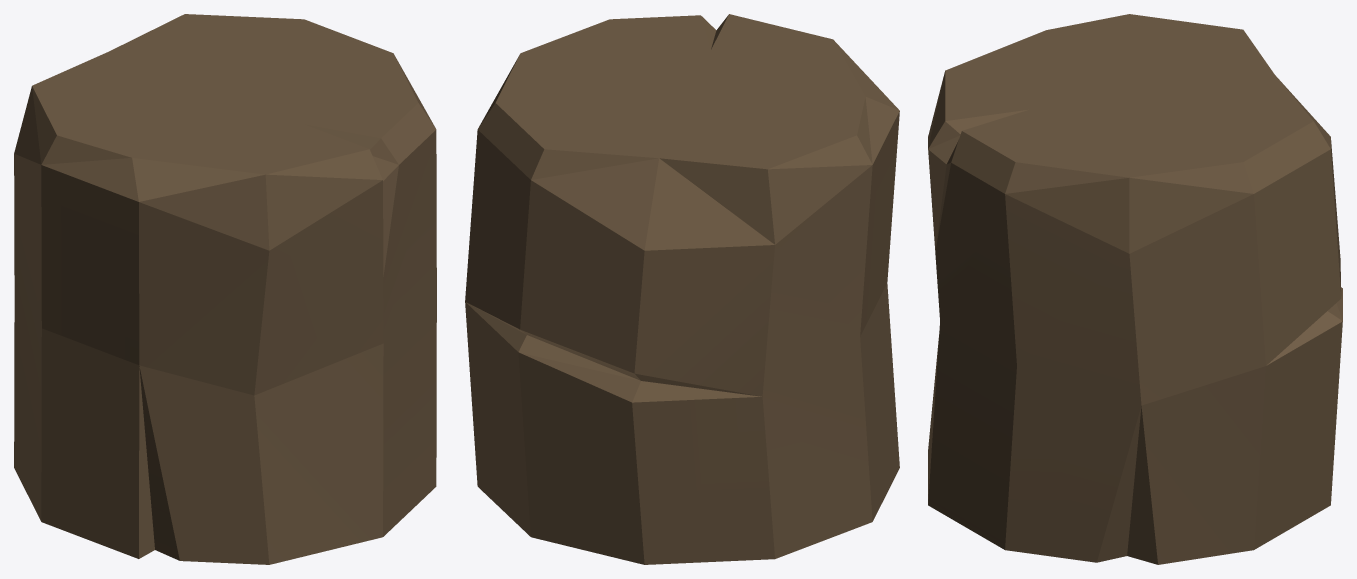
Rendered from Tronco_pequeño.glb.
3 views of the same model, side by side, from view 1: azimuth 30°, elevation 25°; view 2: azimuth 150°, elevation 25°; view 3: azimuth 270°, elevation 25° (orthographic).
Visible parts, largest first — view 1: SM_Prop_Anvil_Stump_01_1; view 2: SM_Prop_Anvil_Stump_01_1; view 3: SM_Prop_Anvil_Stump_01_1.
Boxes of the visible parts, box(x1,y1,x2,y2) form: SM_Prop_Anvil_Stump_01_1: box(14, 14, 436, 564); SM_Prop_Anvil_Stump_01_1: box(465, 14, 899, 564); SM_Prop_Anvil_Stump_01_1: box(928, 14, 1342, 564).
Bounding box in the file's own units: 0.6951 × 0.6796 × 0.669.
Materials: 1 (1 with a texture image).
